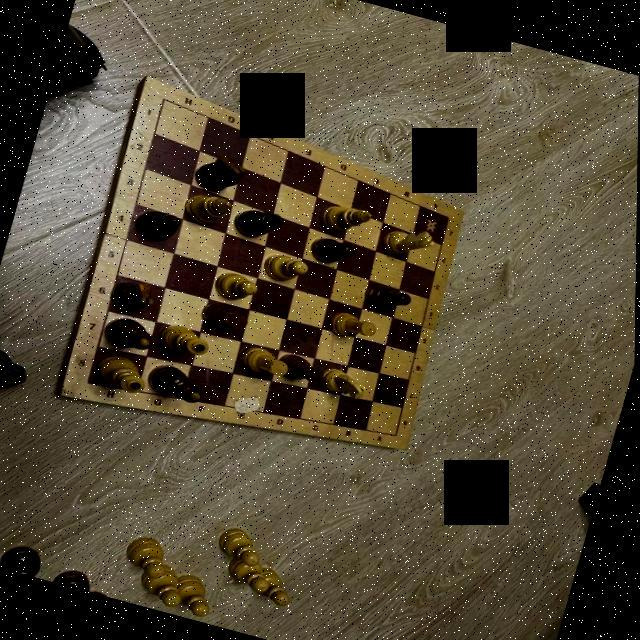chess-table-corners: (392, 428, 403, 439), (444, 212, 454, 220), (160, 93, 168, 103), (84, 378, 94, 386)
